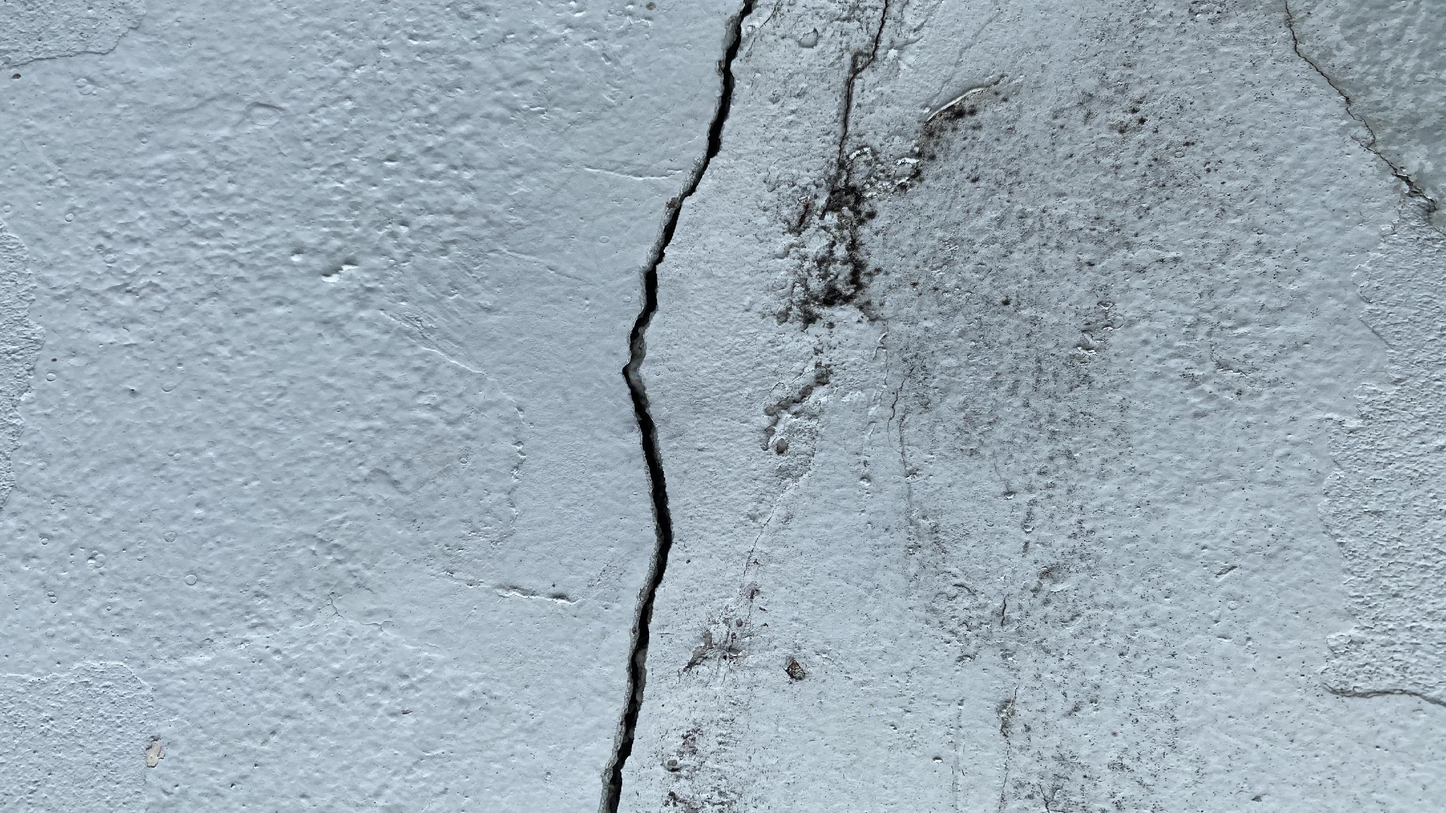crack: (600, 3, 756, 812)
